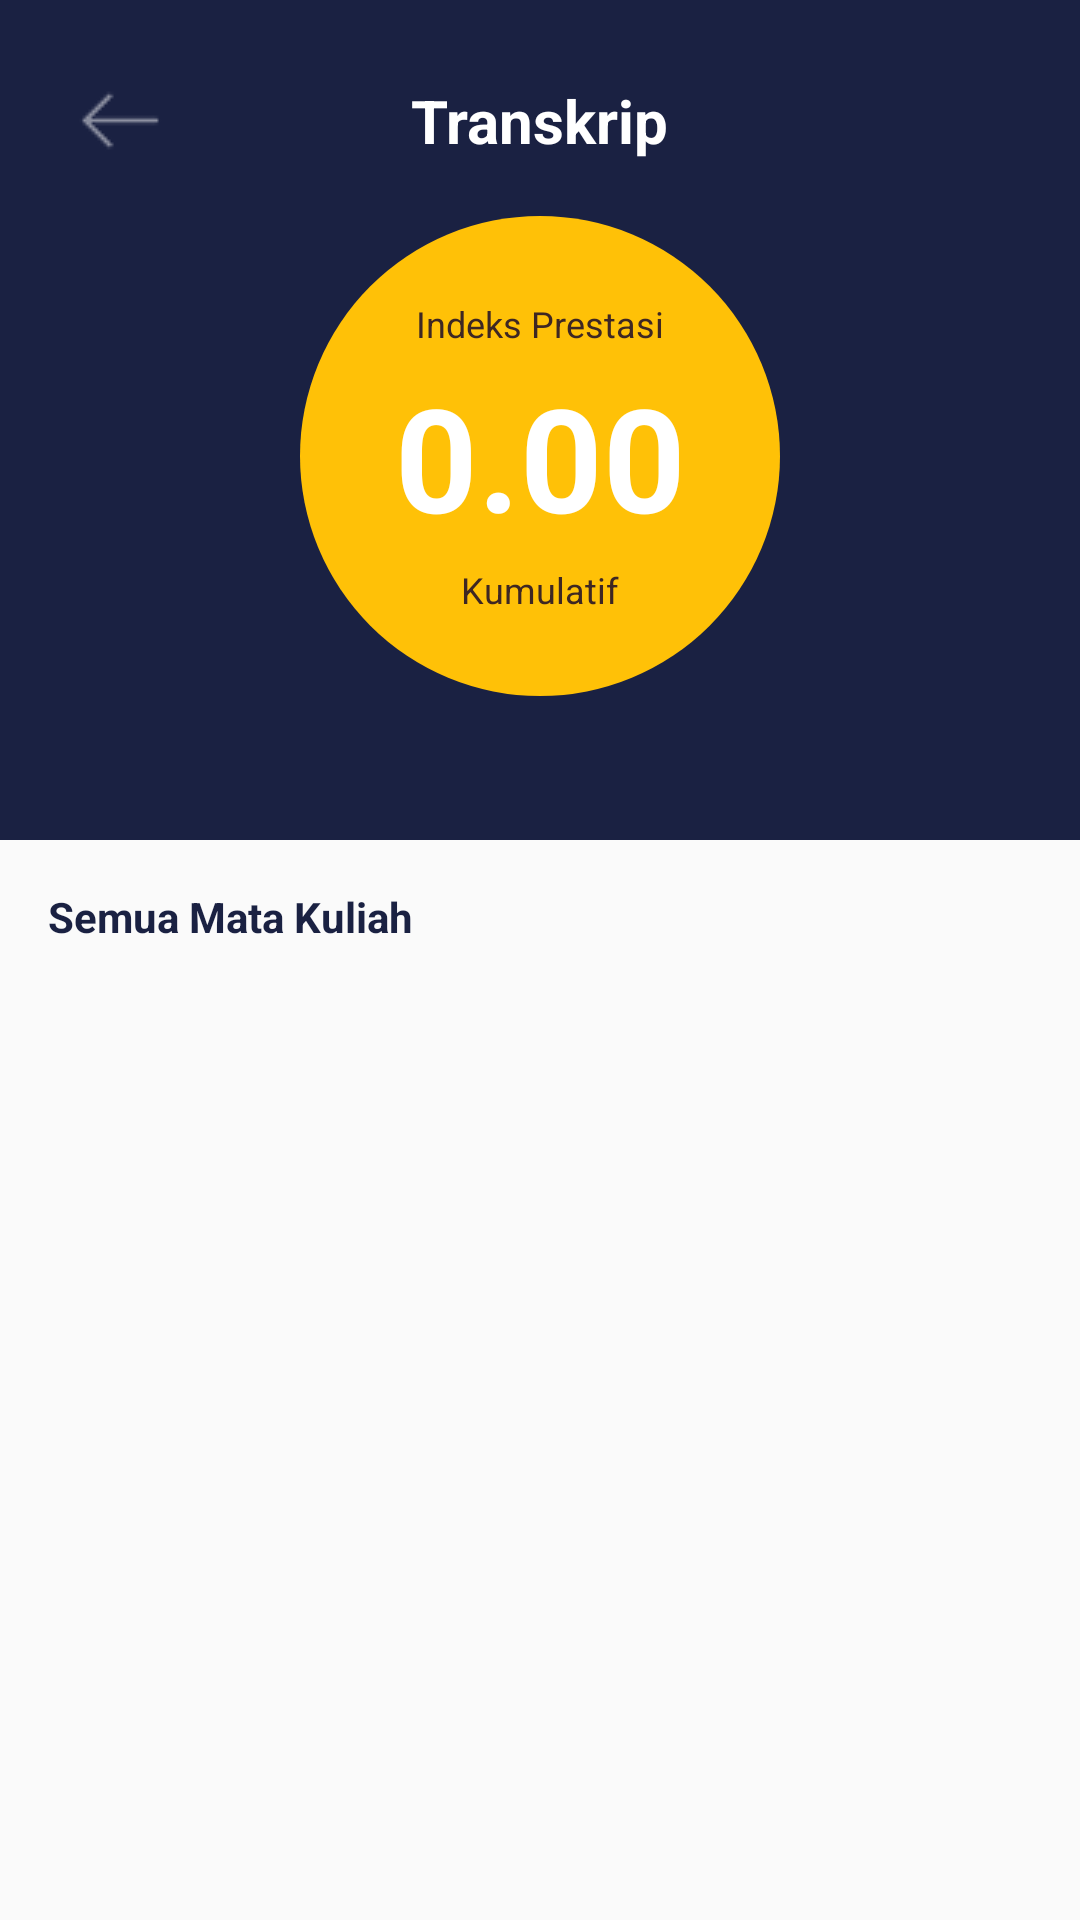

Locate icon controls on the screen. Image size 1080×1920, boxes as (x1, y1, x2, y2).
arrow back: (82, 94, 159, 147)
